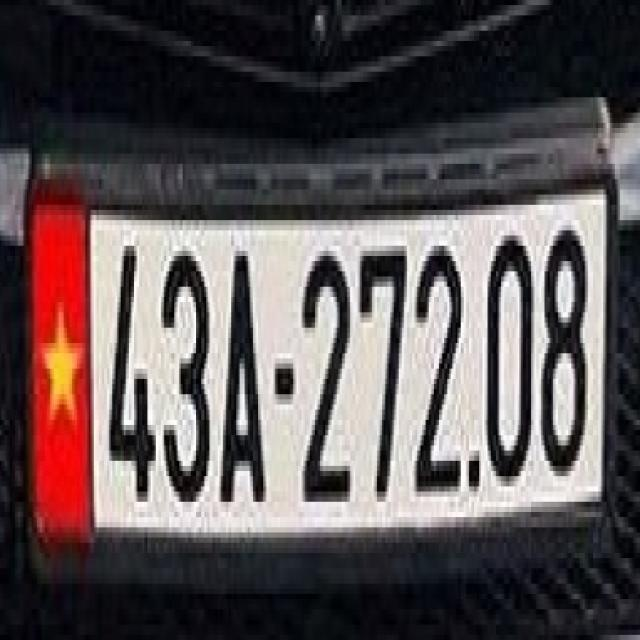0: (480, 228, 536, 492)
2: (299, 249, 354, 512), (413, 242, 464, 503)
3: (160, 243, 212, 512)
4: (106, 236, 158, 519)
7: (357, 242, 409, 505)
8: (540, 225, 592, 482)
A: (219, 244, 268, 514)
